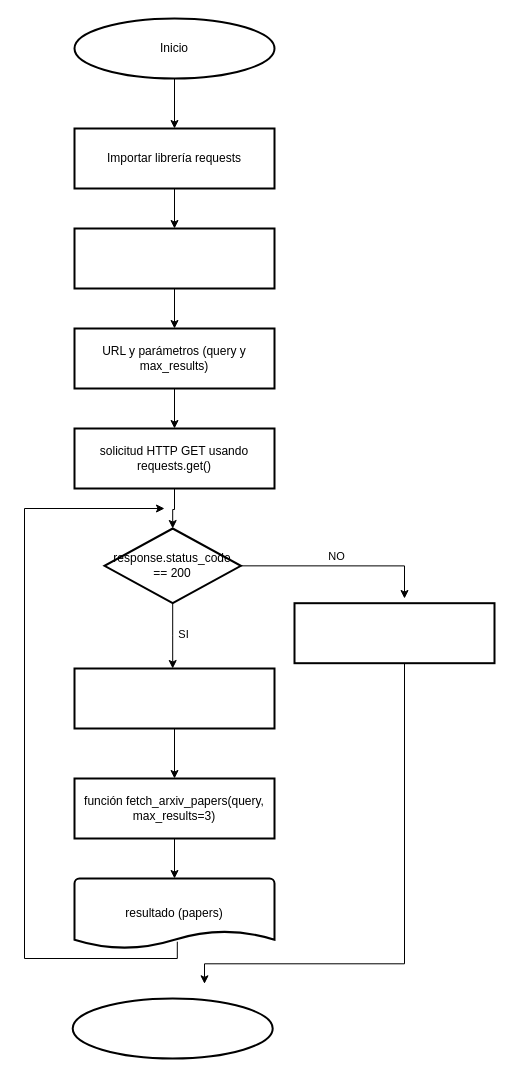
Some shapes in this 513 by 1076 pixel diagram are drawn without their labels. The box of each missing label's shape, as (x1, y1, x2, y2) in pixels:
FIN: (71, 997, 273, 1059)
función fetch_arxiv_papers(query, max_results=5): (73, 227, 275, 289)
Retornar response.json(): (73, 667, 275, 729)
Retornar {'error': 'Failed to fetch data'}: (293, 602, 495, 664)
